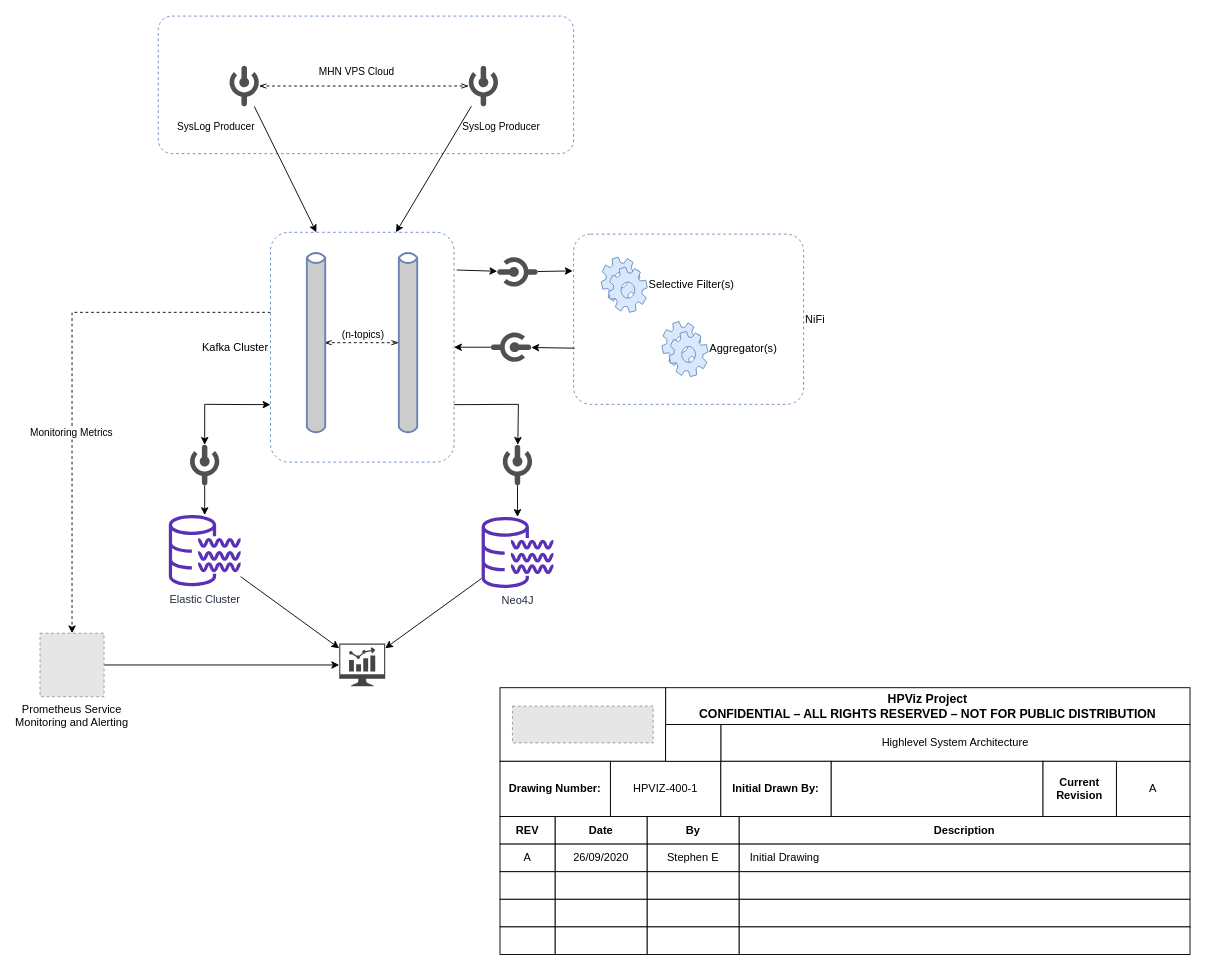
This 1207x971 diagram has some shape labels left out. Grey dashed boxes stand in for pictures. Here are the shapes that lost their labels. From the top down, the centre of each, then its label:
At (362,664): "Dashboards".
At (693,742): "Title:".
At (936,788): "Stephen Eaton".
